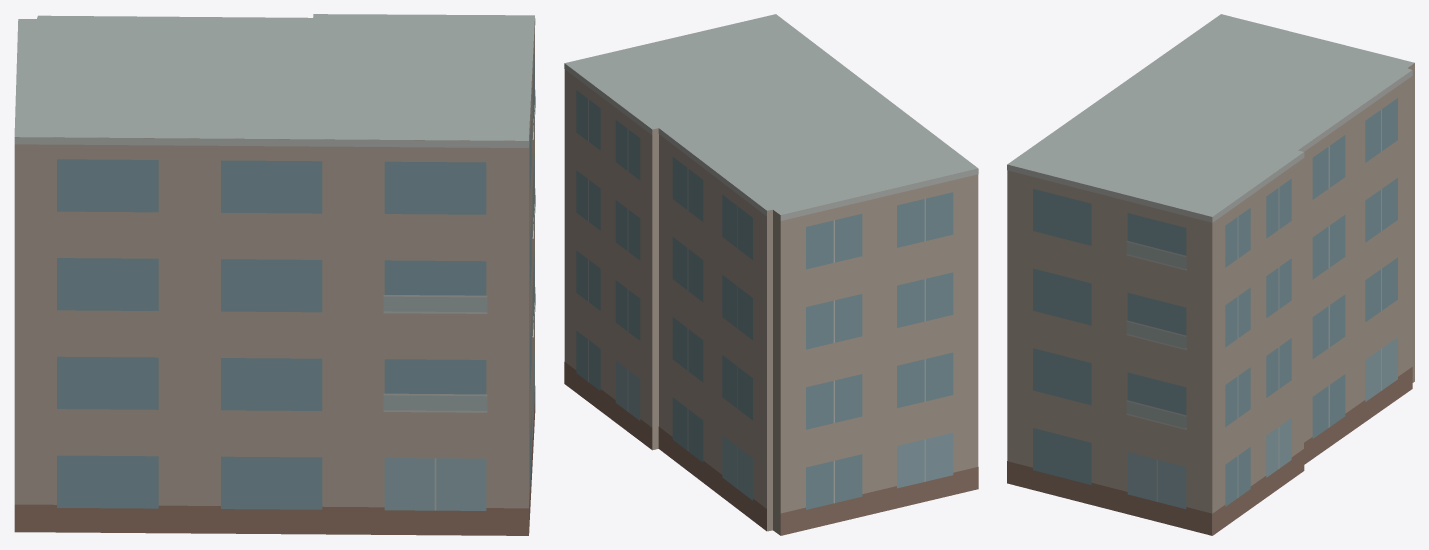
The model's file is survey-upis-32936200.glb.
The picture shows the model from 3 angles, left to right: view 1: azimuth 30°, elevation 25°; view 2: azimuth 150°, elevation 25°; view 3: azimuth 270°, elevation 25°; orthographic projection. The views are drawn at different scales.
Visible parts, largest first — view 1: survey-upis-32936200.tmp; view 2: survey-upis-32936200.tmp; view 3: survey-upis-32936200.tmp.
Boxes of the visible parts, box(x1,y1,x2,y2) form: survey-upis-32936200.tmp: box(14, 14, 535, 535); survey-upis-32936200.tmp: box(564, 14, 978, 535); survey-upis-32936200.tmp: box(1007, 14, 1414, 535).
Bounding box in the file's own units: 18.22 × 13.34 × 15.46.
